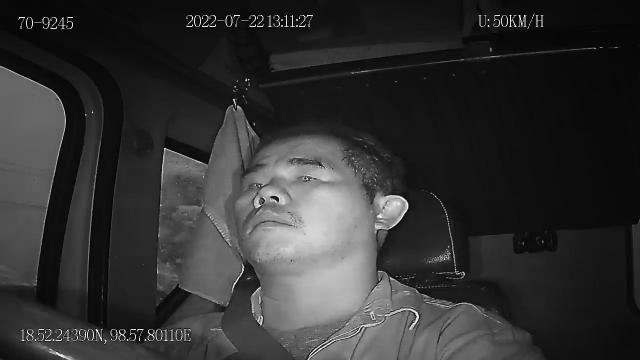SafeDriving: (287, 162, 330, 188)
Seatbelt: (219, 288, 297, 360)
